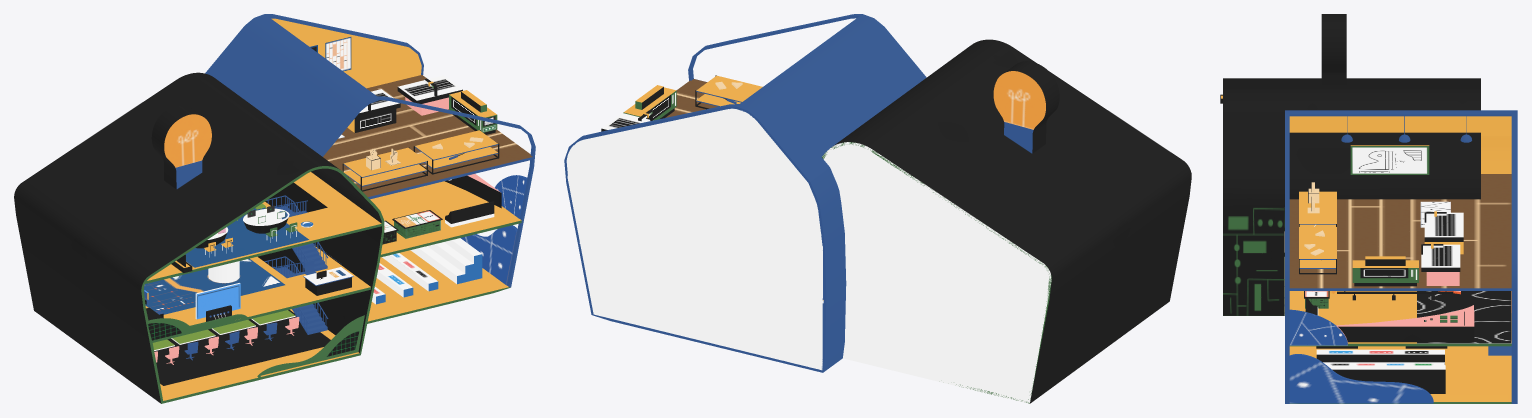
File: 创新空间 带贴图.fbx
The picture shows the model from 3 angles, left to right: view 1: azimuth 30°, elevation 25°; view 2: azimuth 150°, elevation 25°; view 3: azimuth 270°, elevation 25°; orthographic projection. The views are drawn at different scales.
Visible parts, largest first — view 1: 左, 右, 地毯_2, 房顶大灯泡, 平面, 地毯, 桌子_1_2, 立方体_4_2, 桌子_2_2, 挤压_1_4, 电视_1, 右侧机械 (+17 smaller); view 2: 左, 右, 房顶大灯泡, 桌子_1_2, 右侧机械; view 3: 右, 左, 挤压_1_4, 右侧操作台, 平面_1_2, 黑板, 立方体_4_2, 右侧机械, 房顶大灯泡, 立方体_3_3, 挤压_1_3, 桌子_1_2 (+8 smaller).
Part boxes in pixels (left/top/right/bottom): 左: left=14, top=72, right=384, bottom=403; 右: left=205, top=14, right=535, bottom=323; 地毯_2: left=154, top=309, right=330, bottom=385; 房顶大灯泡: left=151, top=105, right=211, bottom=189; 平面: left=144, top=258, right=284, bottom=314; 地毯: left=185, top=207, right=308, bottom=267; 桌子_1_2: left=413, top=130, right=499, bottom=174; 立方体_4_2: left=410, top=238, right=482, bottom=284; 桌子_2_2: left=342, top=147, right=427, bottom=191; 挤压_1_4: left=460, top=225, right=517, bottom=285; 电视_1: left=195, top=283, right=240, bottom=321; 右侧机械: left=449, top=90, right=497, bottom=134; 左: left=822, top=39, right=1191, bottom=403; 右: left=564, top=14, right=926, bottom=372; 房顶大灯泡: left=993, top=61, right=1059, bottom=153; 桌子_1_2: left=695, top=75, right=762, bottom=109; 右侧机械: left=623, top=85, right=676, bottom=120; 右: left=1285, top=110, right=1517, bottom=403; 左: left=1223, top=78, right=1480, bottom=315; 挤压_1_4: left=1289, top=354, right=1433, bottom=403; 右侧操作台: left=1336, top=305, right=1474, bottom=342; 平面_1_2: left=1417, top=291, right=1511, bottom=343; 黑板: left=1350, top=145, right=1429, bottom=174; 立方体_4_2: left=1327, top=365, right=1445, bottom=393; 右侧机械: left=1352, top=256, right=1418, bottom=286; 房顶大灯泡: left=1321, top=14, right=1346, bottom=84; 立方体_3_3: left=1316, top=349, right=1444, bottom=362; 挤压_1_3: left=1289, top=309, right=1347, bottom=345; 桌子_1_2: left=1299, top=226, right=1336, bottom=274.
Bounding box in the file's own units: 2563 × 1354 × 1533.
